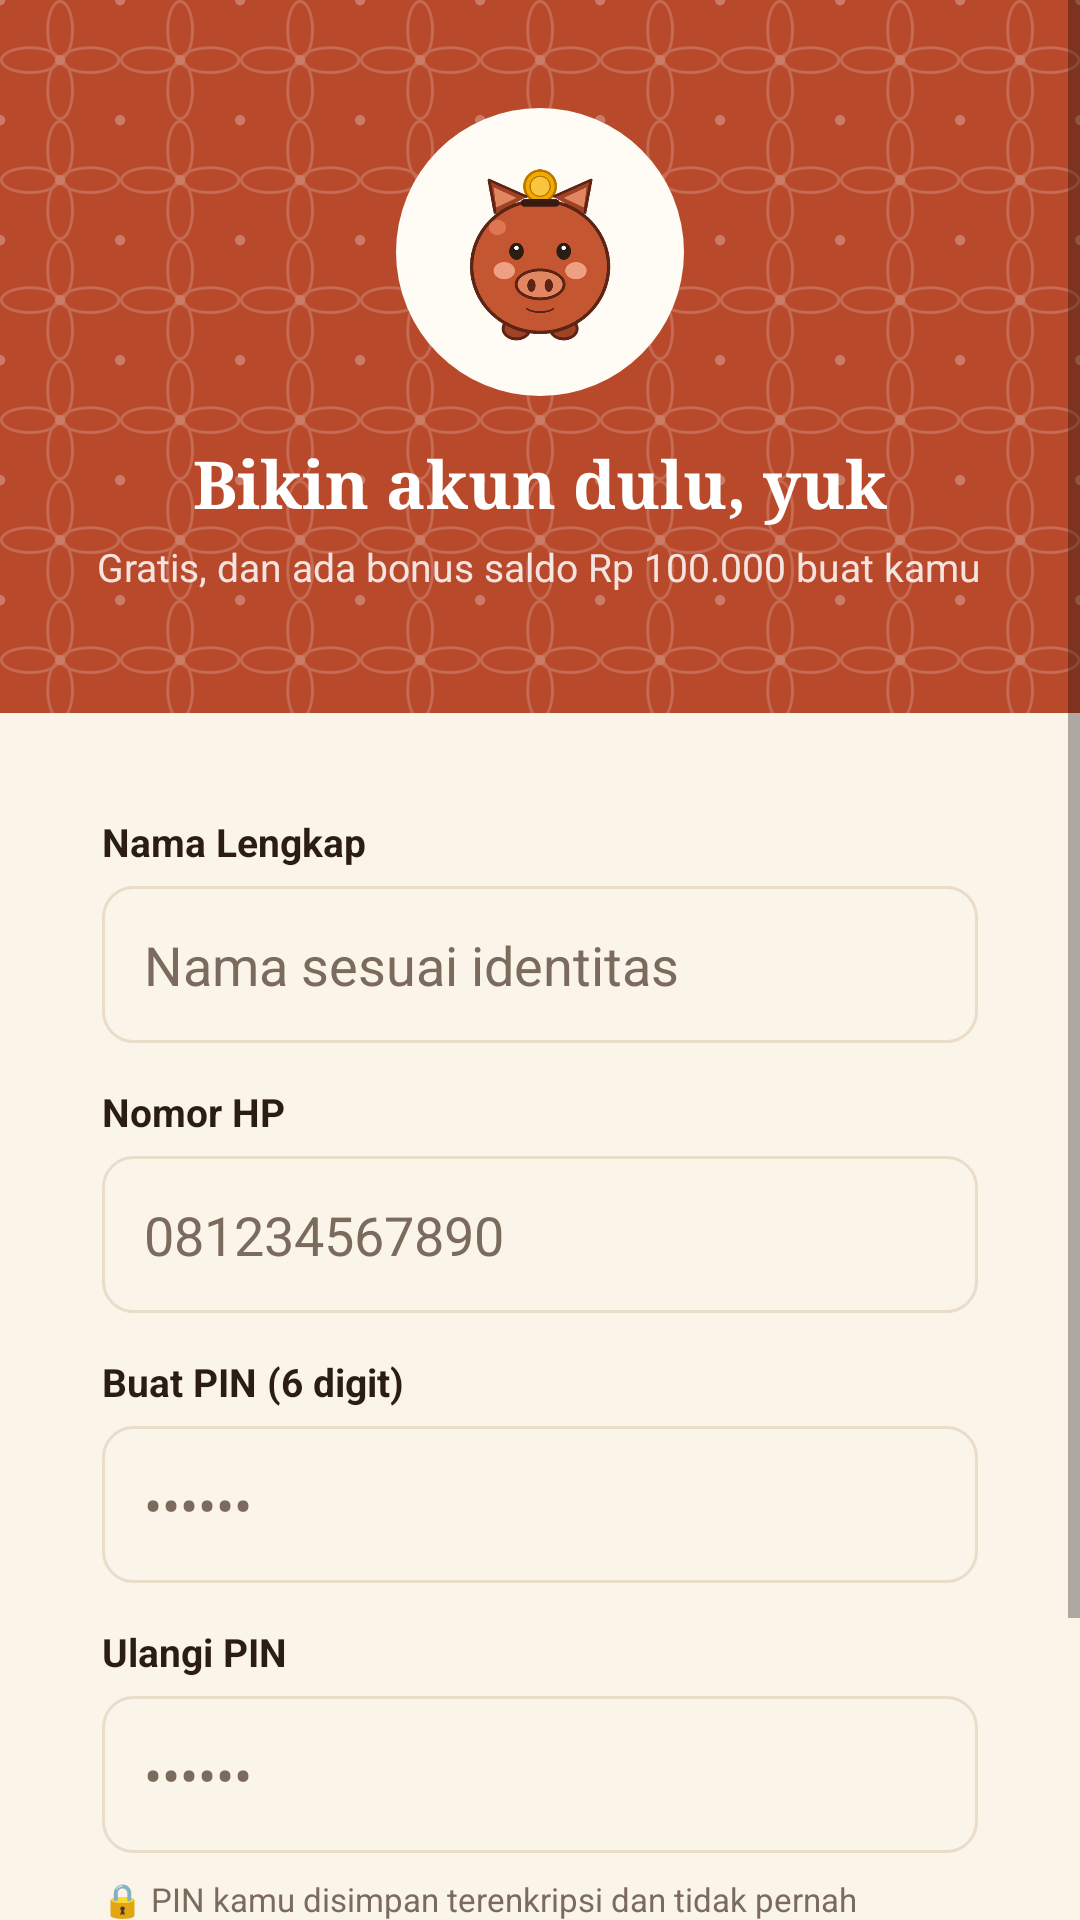

Named icons in this screenshot (1080x1920) and their bounding boxes, (x1, y1, x2, y2):
Maskot Dompet Mini: (396, 108, 684, 396)
